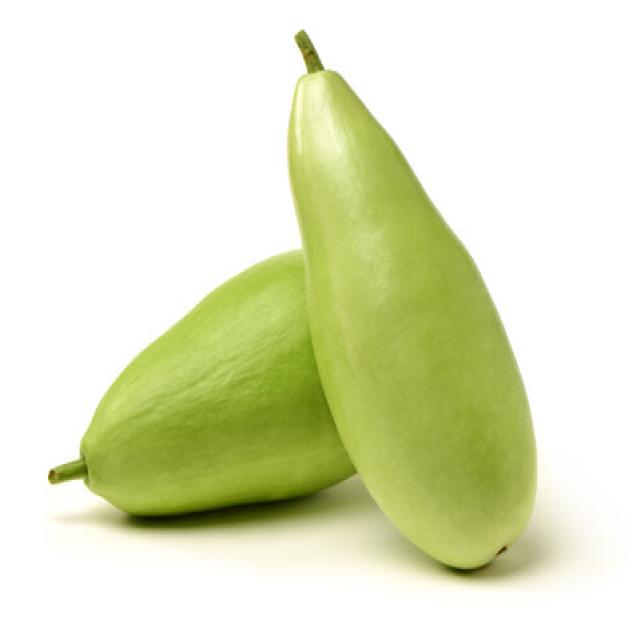Bottle Gourd: (284, 27, 538, 570), (47, 245, 358, 519)
